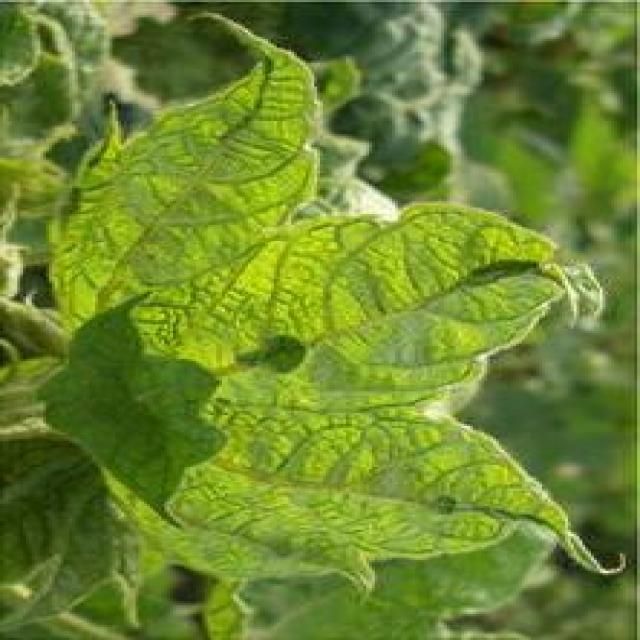Leaf Curl Virus: (77, 119, 446, 525)
